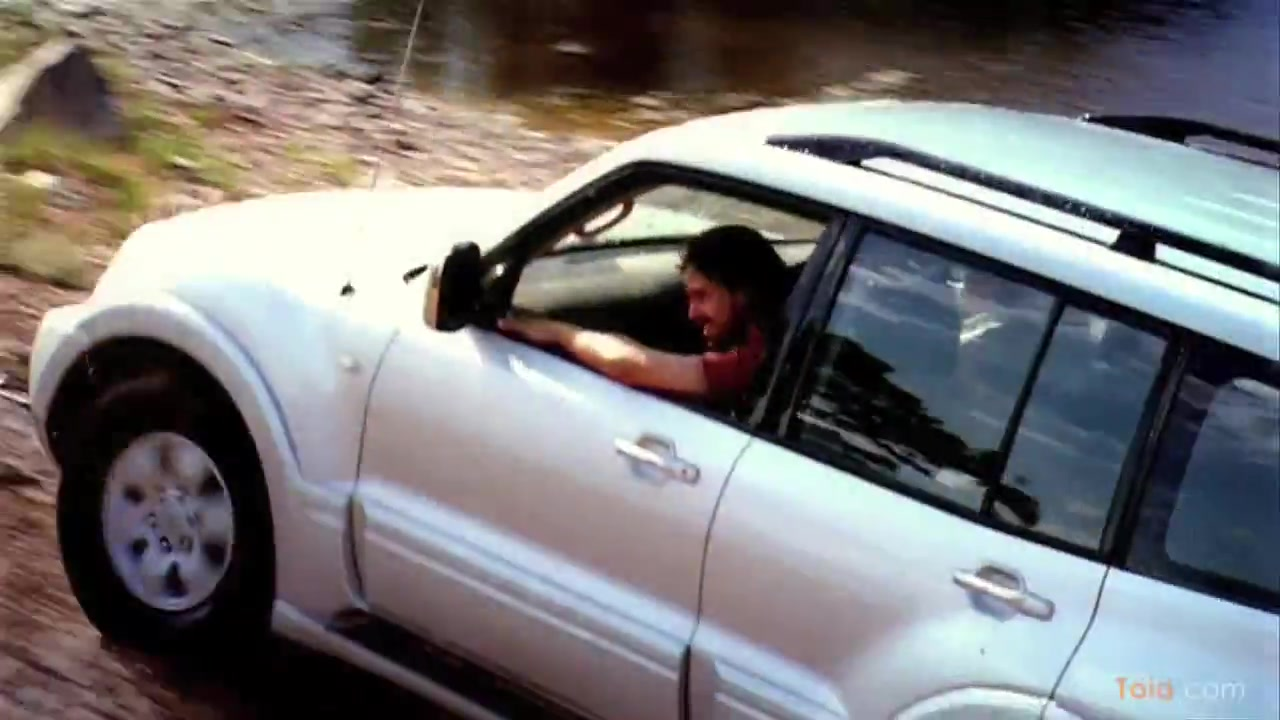car: (32, 94, 1280, 720)
